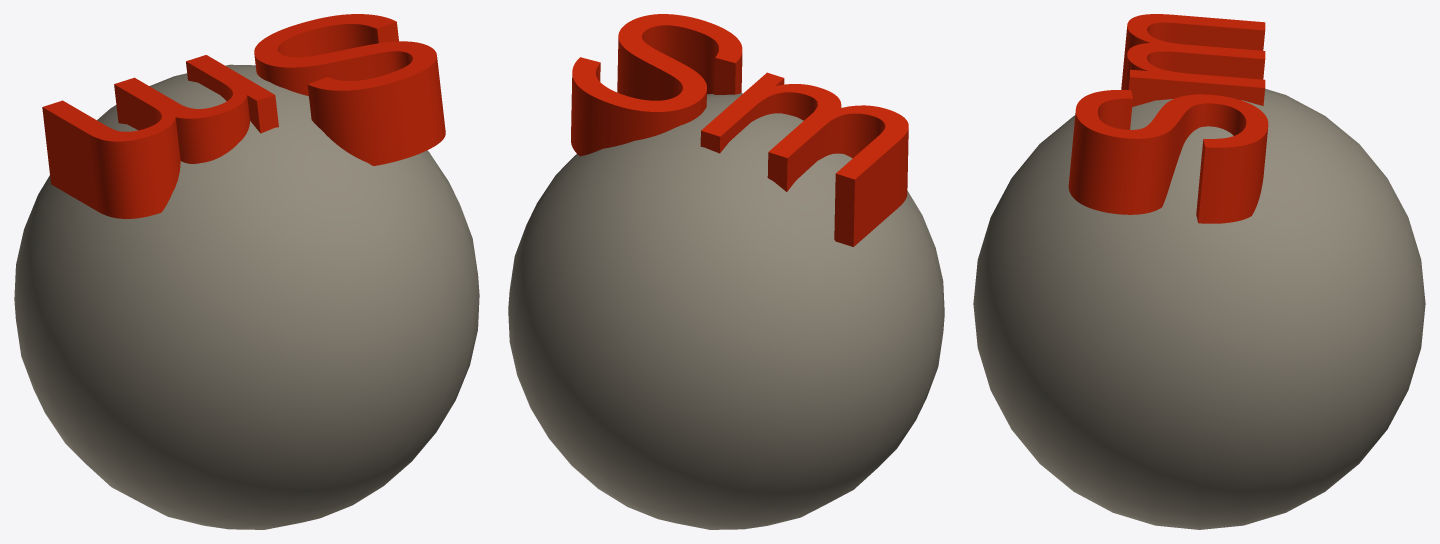
The picture shows the model from 3 angles, left to right: view 1: azimuth 30°, elevation 25°; view 2: azimuth 150°, elevation 25°; view 3: azimuth 270°, elevation 25°; orthographic projection. The views are drawn at different scales.
Parts seen in each view (by area): view 1: Sm; view 2: Sm; view 3: Sm.
Boxes of the visible parts, <box> form: Sm: <box>14,14,479,529</box>; Sm: <box>508,14,944,529</box>; Sm: <box>973,14,1425,529</box>.
Bounding box in the file's own units: 38.7 × 41.7 × 38.75.
